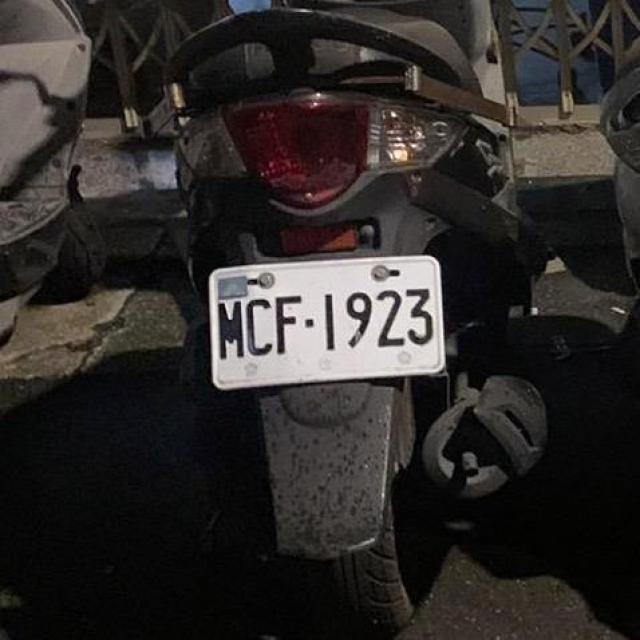W: (199, 245, 450, 398)
